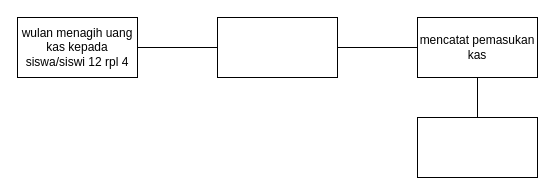
The diagram is 555 pixels wide and 195 high, and some of its shapes have lost their labels. The shapes that lost their labels are listed below. From the top down, each one's box as (x1, y1, x2, y2) in pixels, then its label:
(216, 16, 338, 78): wulan mencatat siapa aja yang bayar kas
(416, 116, 538, 178): mencatat pengeluaran kas
